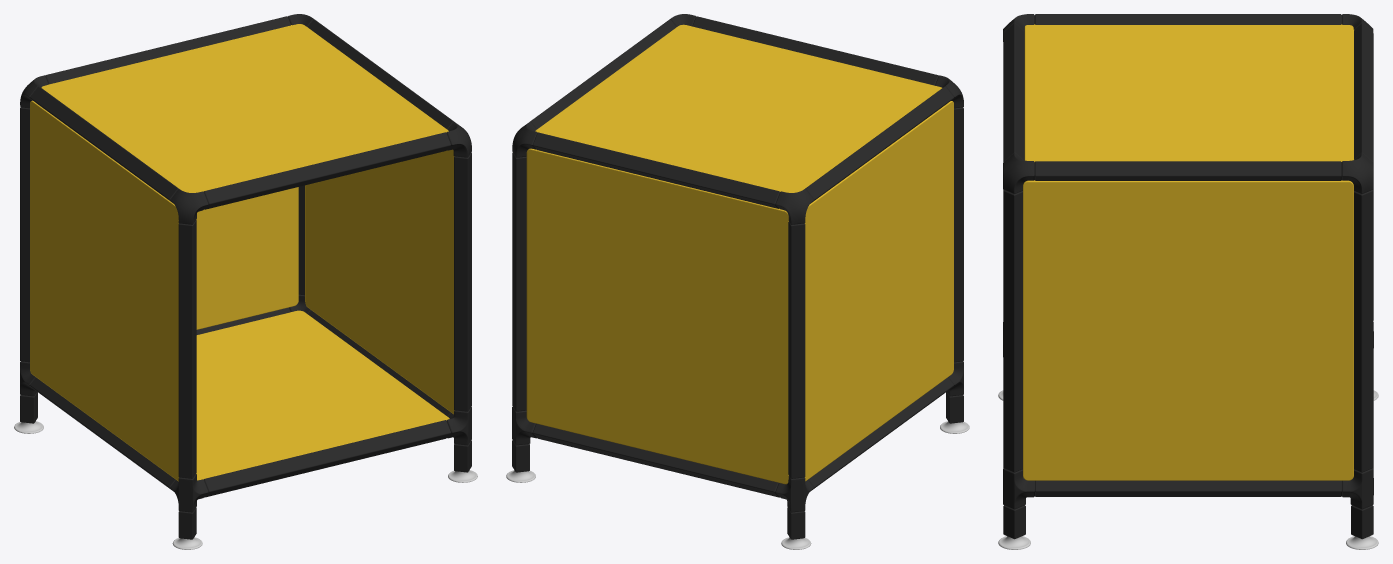
The picture shows the model from 3 angles, left to right: view 1: azimuth 30°, elevation 25°; view 2: azimuth 150°, elevation 25°; view 3: azimuth 270°, elevation 25°; orthographic projection. The views are drawn at different scales.
Parts seen in each view (by area): view 1: 374x374x374; view 2: 374x374x374; view 3: 374x374x374.
Part boxes in pixels (box(x1,y1,x2,y2)): 374x374x374: box(14, 14, 477, 549); 374x374x374: box(506, 14, 969, 549); 374x374x374: box(998, 14, 1378, 549).
Bounding box in the file's own units: 0.4639 × 0.5133 × 0.4632.
